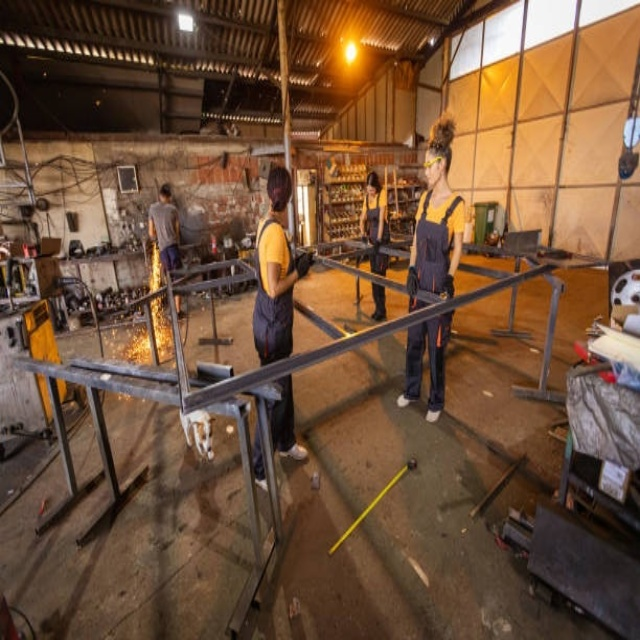Gafas: (423, 156, 443, 169), (366, 186, 377, 195)
Guantes: (295, 251, 314, 279), (406, 266, 419, 298), (441, 274, 454, 299), (370, 238, 382, 263)
